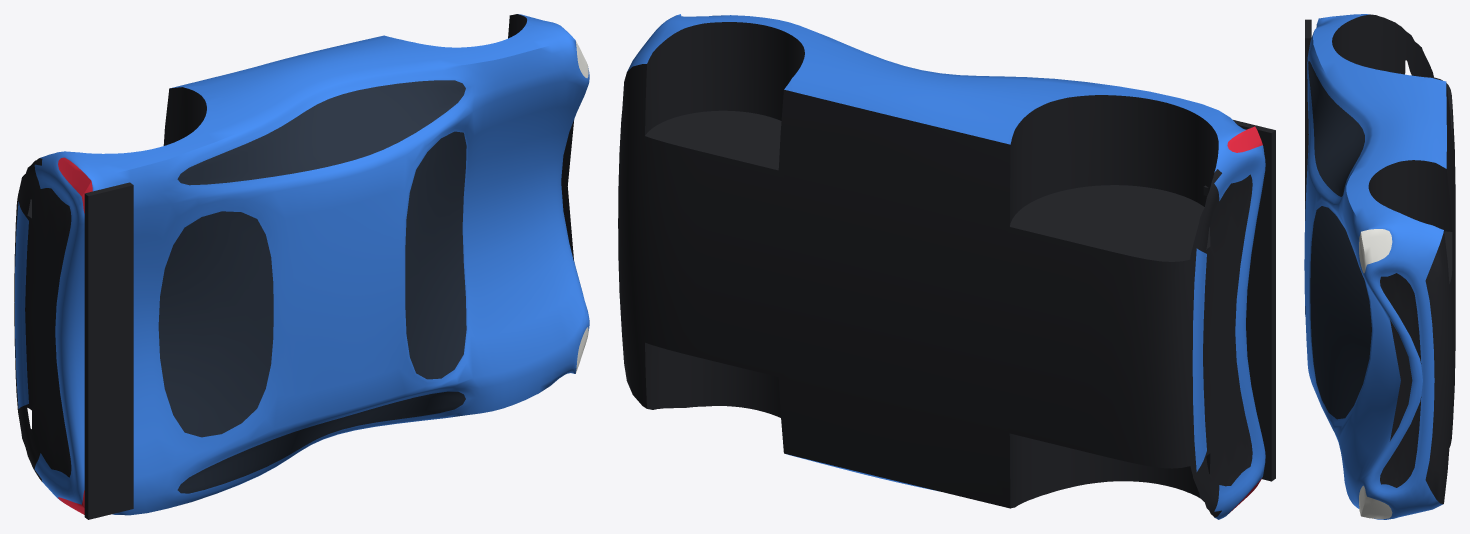
The model's file is lamina.glb.
The picture shows the model from 3 angles, left to right: view 1: azimuth 30°, elevation 25°; view 2: azimuth 150°, elevation 25°; view 3: azimuth 270°, elevation 25°; orthographic projection. The views are drawn at different scales.
Parts seen in each view (by area): view 1: lamina; view 2: lamina; view 3: lamina.
Boxes of the visible parts, bbox=[...] form: lamina: bbox=[14, 14, 589, 519]; lamina: bbox=[618, 14, 1275, 519]; lamina: bbox=[1304, 14, 1455, 519].
Size of the model in its own units: 131 by 84.15 by 37.19.
